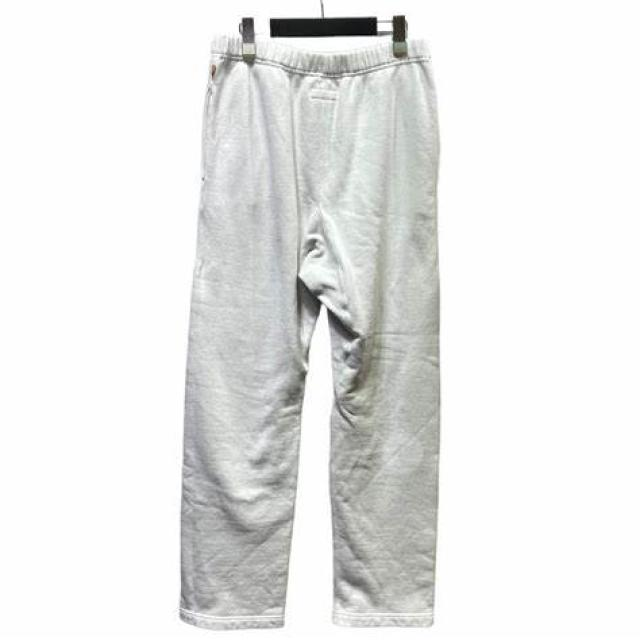long-pants: (179, 35, 438, 630)
